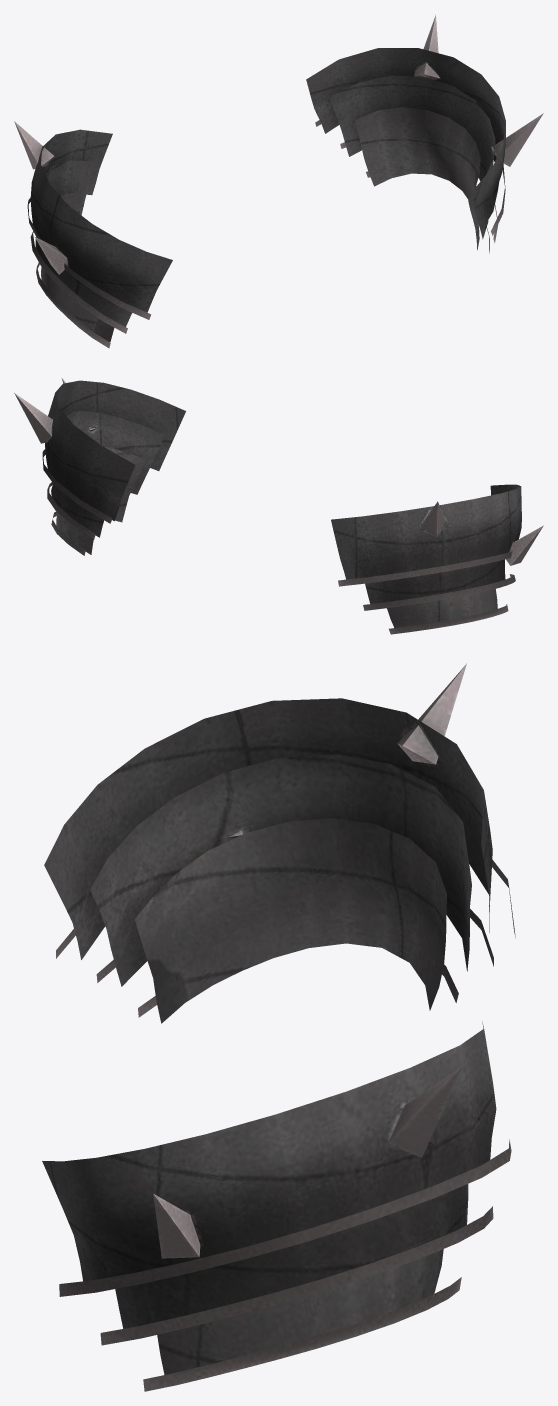
Rendered from Ombreiras_de_Placas_nivel50.glb.
The picture shows the model from 3 angles, top to bottom: view 1: azimuth 30°, elevation 25°; view 2: azimuth 150°, elevation 25°; view 3: azimuth 270°, elevation 25°; orthographic projection. The views are drawn at different scales.
Visible parts, largest first — view 1: ombreiras_de_placas_nivel50; view 2: ombreiras_de_placas_nivel50; view 3: ombreiras_de_placas_nivel50.
Boxes of the visible parts, x1,y1,x2,y2 form: ombreiras_de_placas_nivel50: (14, 15, 543, 348); ombreiras_de_placas_nivel50: (14, 378, 543, 634); ombreiras_de_placas_nivel50: (42, 663, 515, 1391).
Bounding box in the file's own units: 0.6638 × 0.2257 × 0.2759.
Materials: 1 (1 with a texture image).
